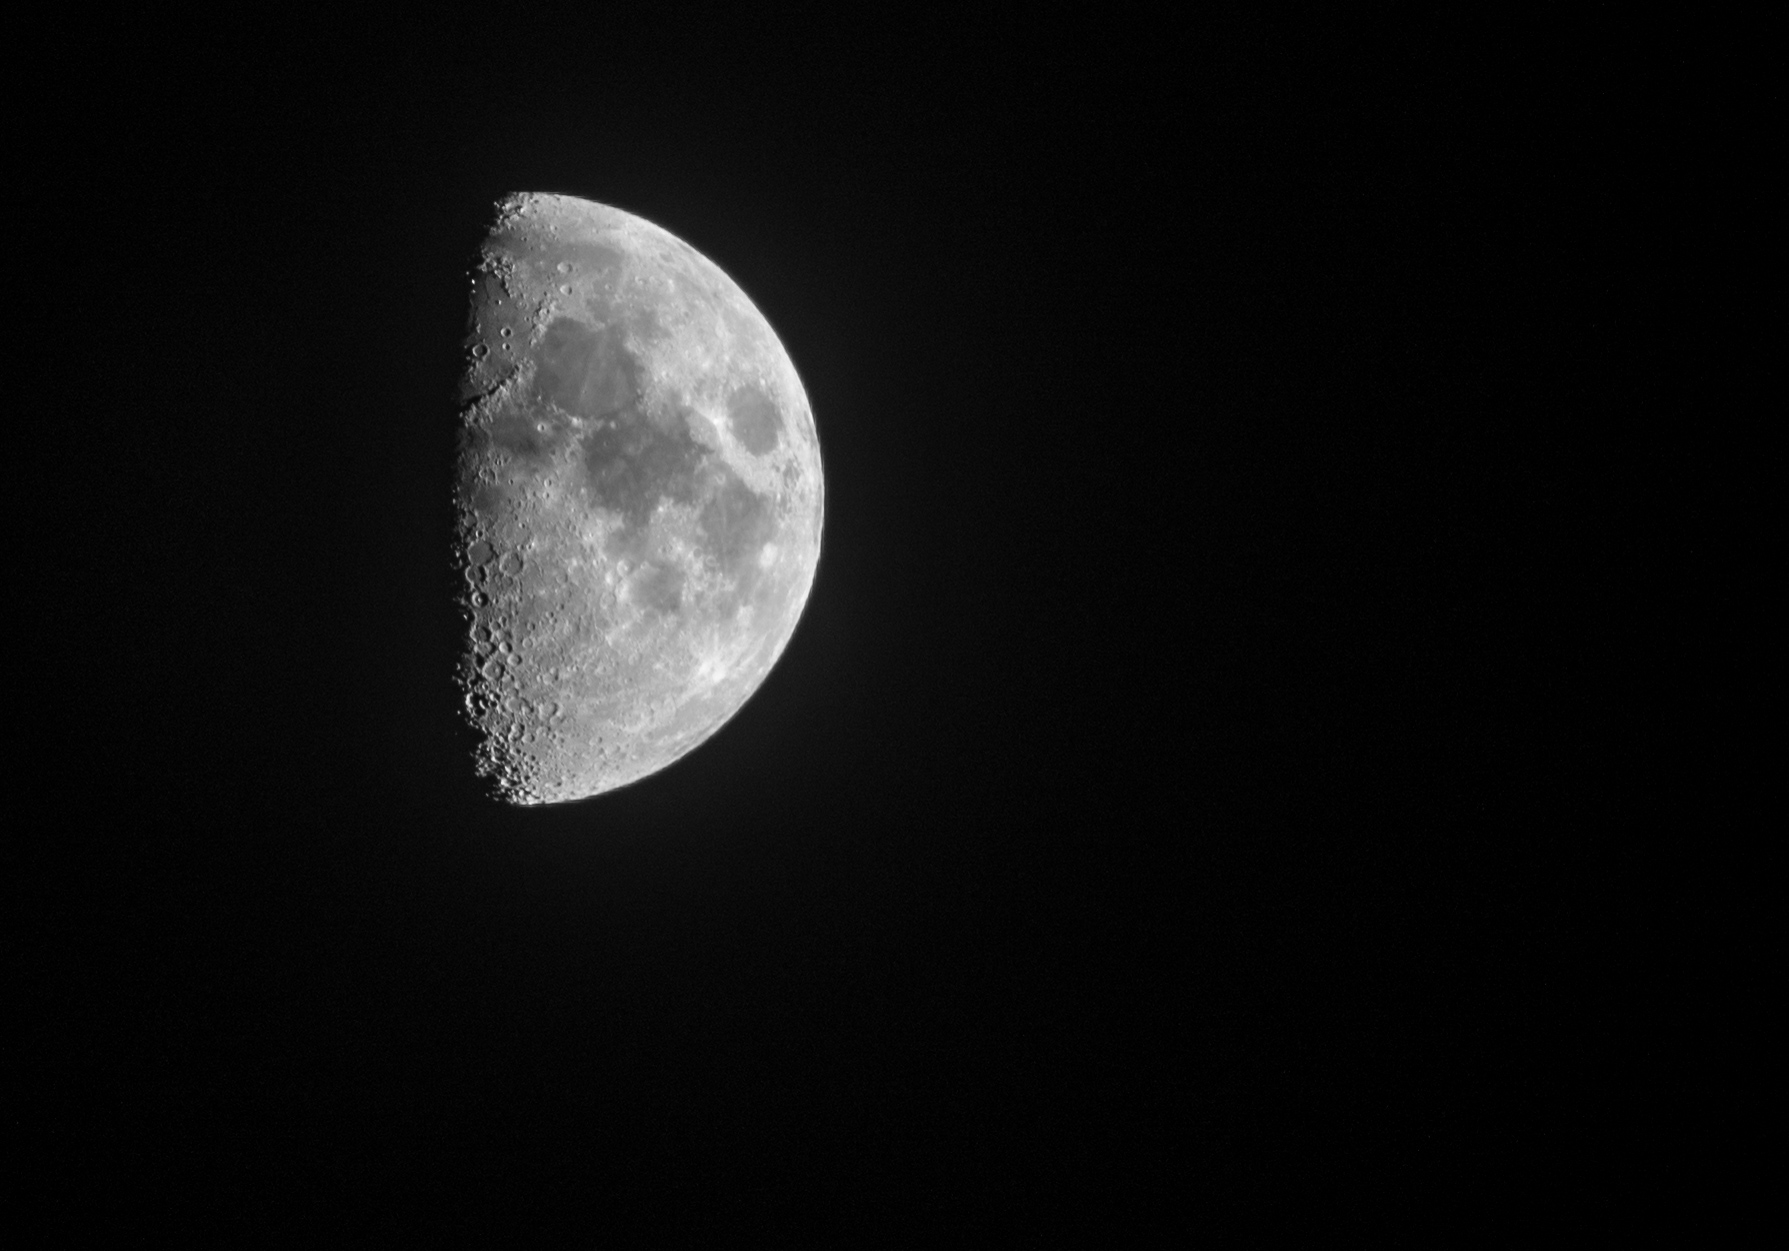crater: (699, 402, 729, 441), (498, 545, 527, 581), (546, 281, 580, 309), (466, 339, 495, 370), (613, 552, 642, 579), (635, 605, 665, 630), (594, 586, 620, 612), (470, 621, 498, 646), (555, 252, 578, 280), (493, 320, 518, 343), (506, 651, 530, 669), (534, 419, 555, 439), (602, 416, 623, 436), (470, 590, 492, 609)
